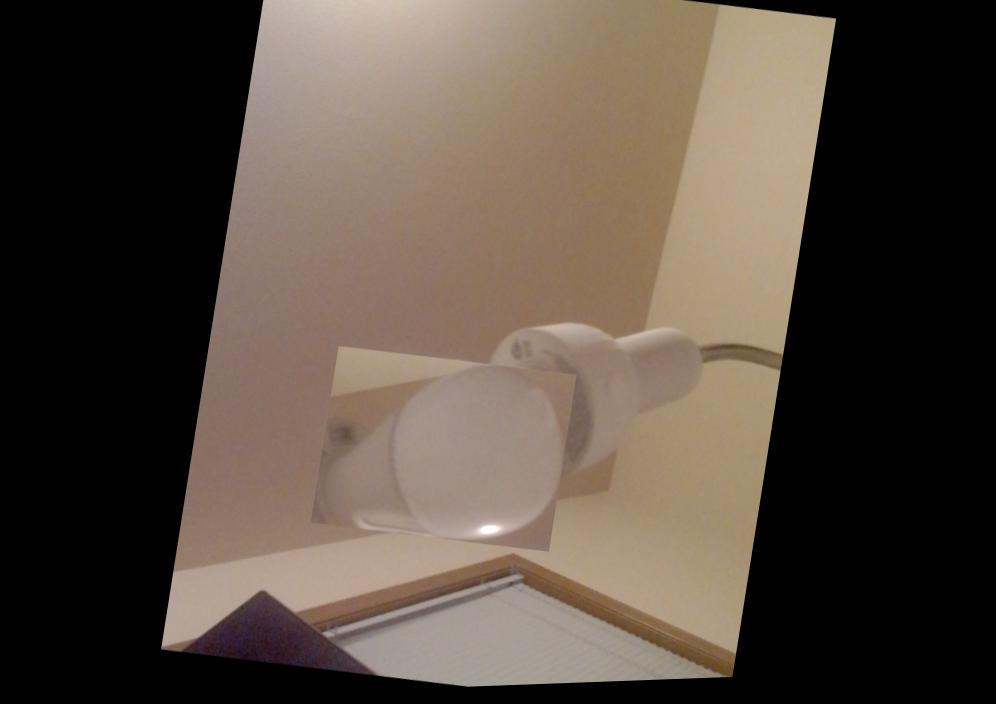Fan: (308, 341, 575, 564)
